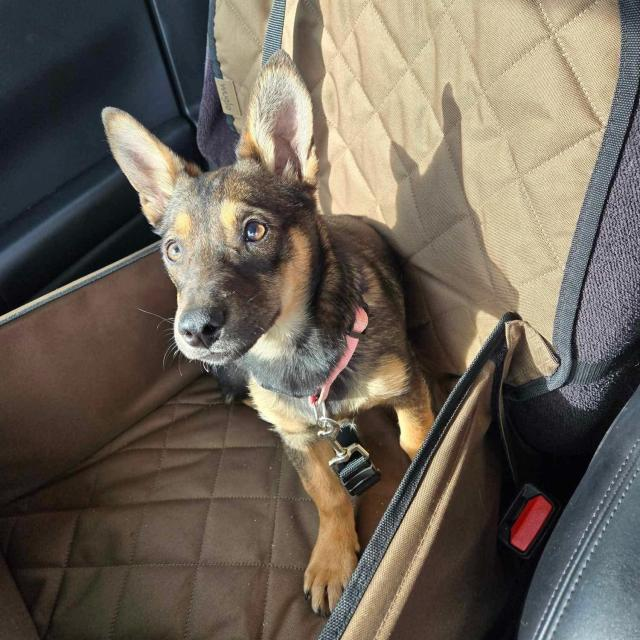corgi_dog: (98, 44, 333, 382)
